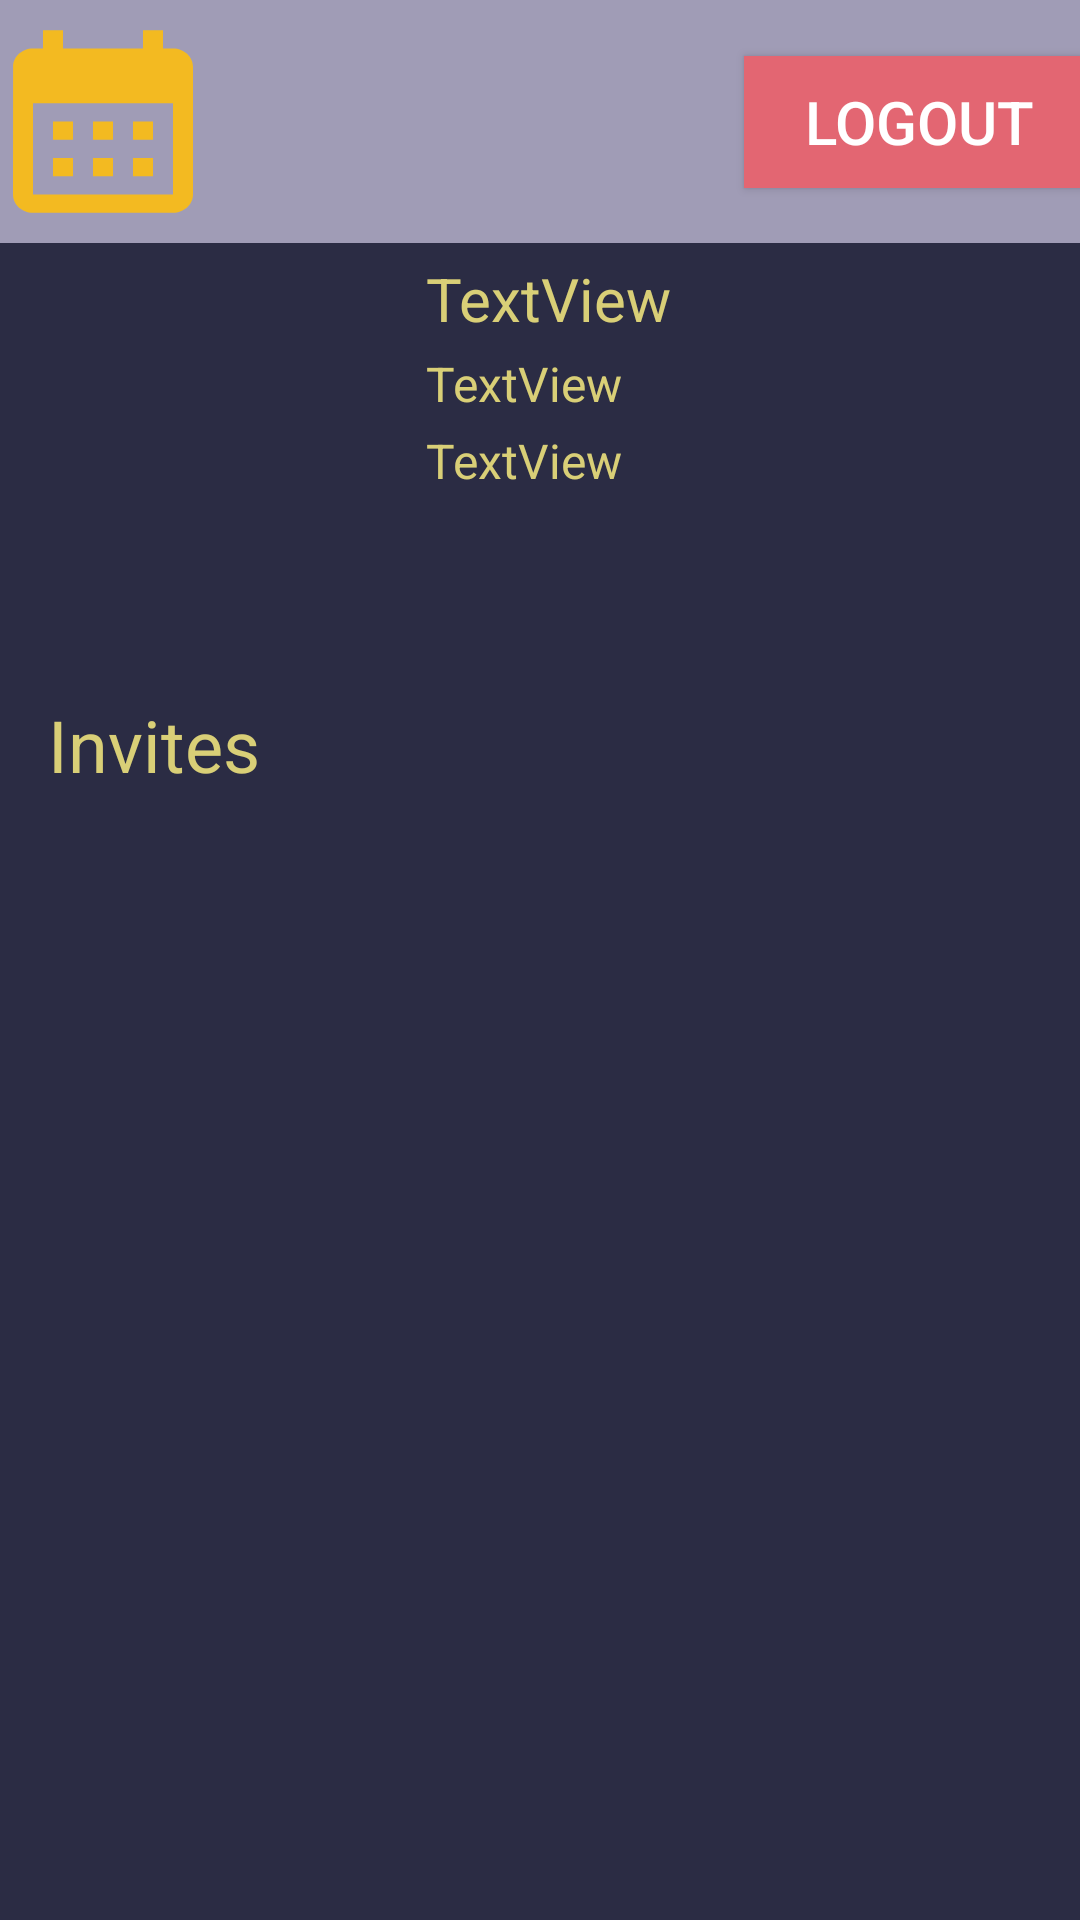

Named icons in this screenshot (1080px×1920px) and their centers, [x,y]:
calendar month: [103,121]
